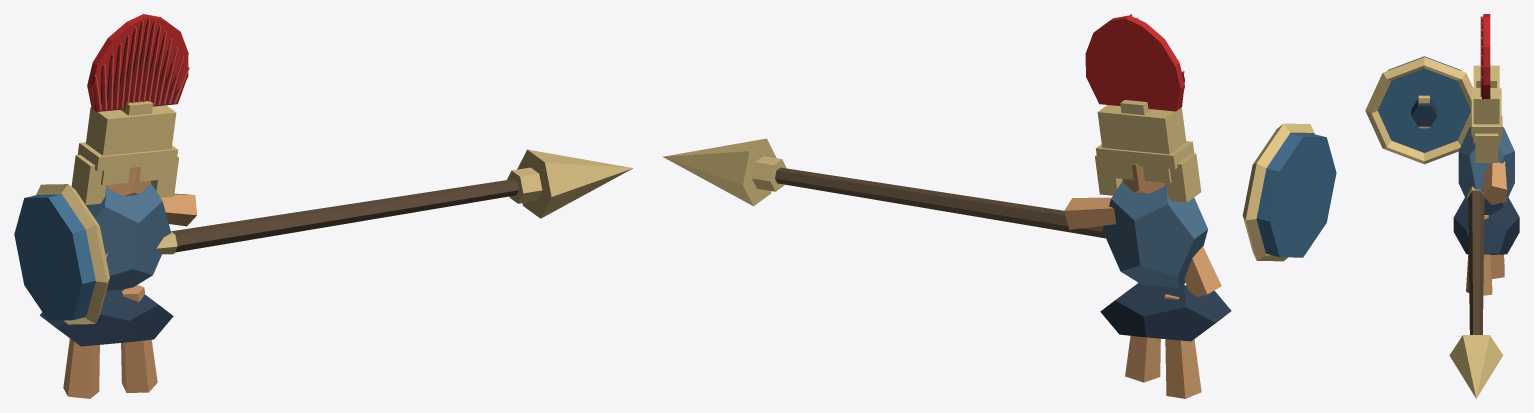
File: romanSoldier_spear_red.glb
3 views of the same model, side by side, from view 1: azimuth 30°, elevation 25°; view 2: azimuth 150°, elevation 25°; view 3: azimuth 270°, elevation 25° (orthographic). The views are drawn at different scales.
Visible parts, largest first — view 1: soldier-helm, n33, n42, n3, n5, long-spear-head, soldier-crest-feathers, soldier-crest, soldier-crest-stems, n35, n24, n27 (+3 smaller); view 2: soldier-helm, n3, n33, soldier-crest, n42, n5, long-spear-head, n35, n27, n24, n21, n18 (+2 smaller); view 3: n33, n35, soldier-helm, n42, n3, n5, long-spear-head, n21, soldier-crest, shield-boss, n24, n27 (+1 smaller).
Boxes of the visible parts, x1,y1,x2,y2 form: soldier-helm: (71, 101, 178, 204); n33: (14, 194, 95, 320); n42: (171, 179, 518, 252); n3: (86, 182, 170, 290); n5: (40, 289, 173, 346); long-spear-head: (517, 149, 633, 218); soldier-crest-feathers: (92, 21, 188, 111); soldier-crest: (87, 14, 188, 111); soldier-crest-stems: (94, 17, 189, 110); n35: (36, 184, 109, 324); n24: (121, 285, 157, 392); n27: (63, 338, 99, 398); soldier-helm: (1095, 100, 1201, 202); n3: (1102, 181, 1207, 288); n33: (1256, 133, 1336, 257); soldier-crest: (1085, 15, 1184, 111); n42: (775, 167, 1105, 238); n5: (1100, 283, 1231, 341); long-spear-head: (662, 138, 776, 206); n35: (1242, 123, 1314, 261); n27: (1164, 294, 1201, 398); n24: (1125, 282, 1160, 382); n21: (1064, 197, 1116, 229); n18: (1184, 246, 1221, 296); n33: (1377, 56, 1470, 152); n35: (1365, 57, 1472, 164); soldier-helm: (1471, 65, 1501, 162); n42: (1468, 191, 1484, 334); n3: (1458, 126, 1514, 215); n5: (1453, 197, 1519, 254); long-spear-head: (1449, 335, 1503, 398); n21: (1482, 161, 1506, 204); soldier-crest: (1483, 14, 1490, 98); shield-boss: (1411, 99, 1437, 126); n24: (1466, 215, 1492, 295); n27: (1490, 254, 1504, 278).
Bounding box in the file's own units: 2.1 × 1.19 × 0.595.
